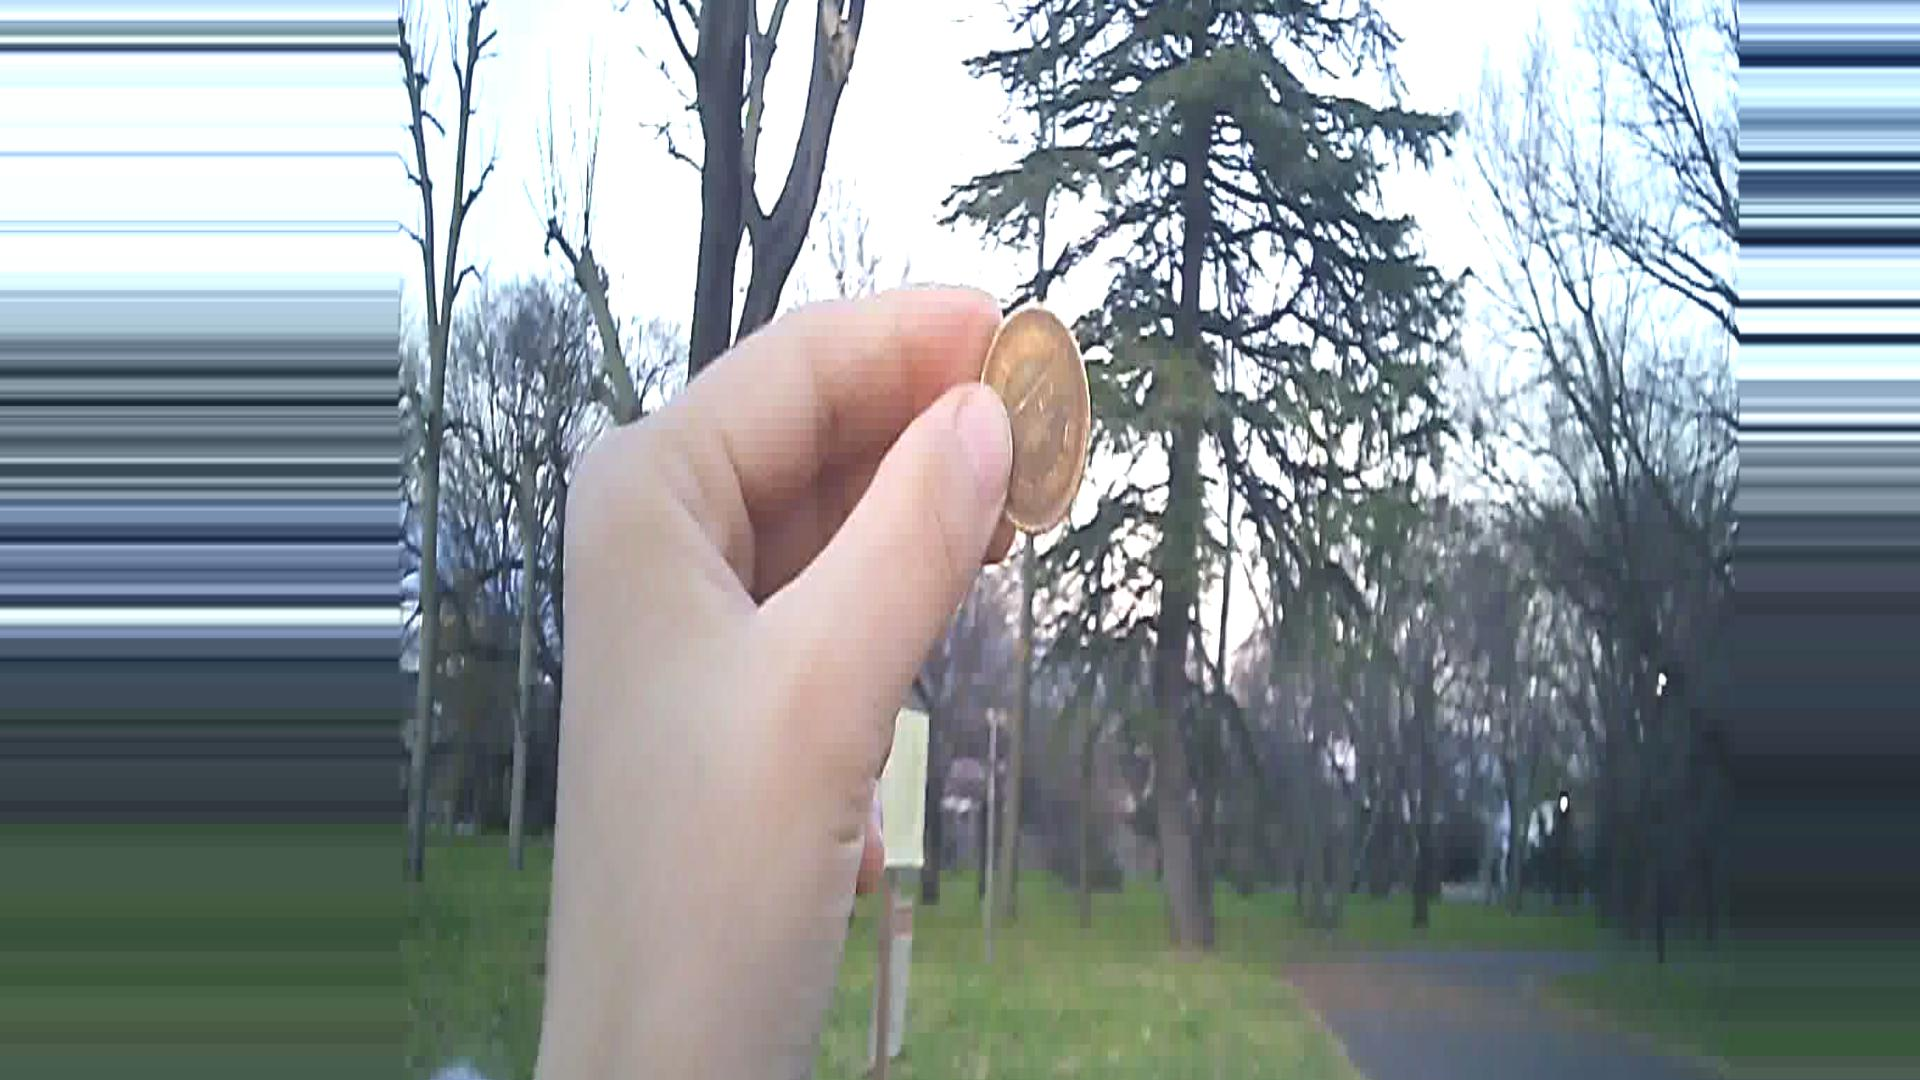10 Yen: (975, 305, 1106, 535)
